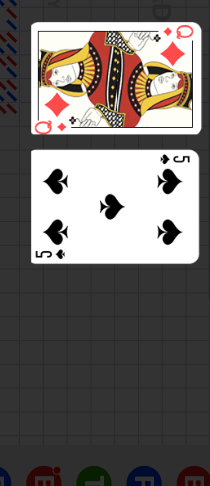5S: (158, 154, 191, 166), (34, 248, 67, 260)
QD: (31, 78, 78, 122), (152, 11, 198, 55)
